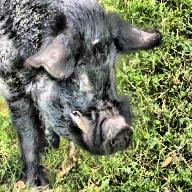boar: (0, 0, 143, 164)
